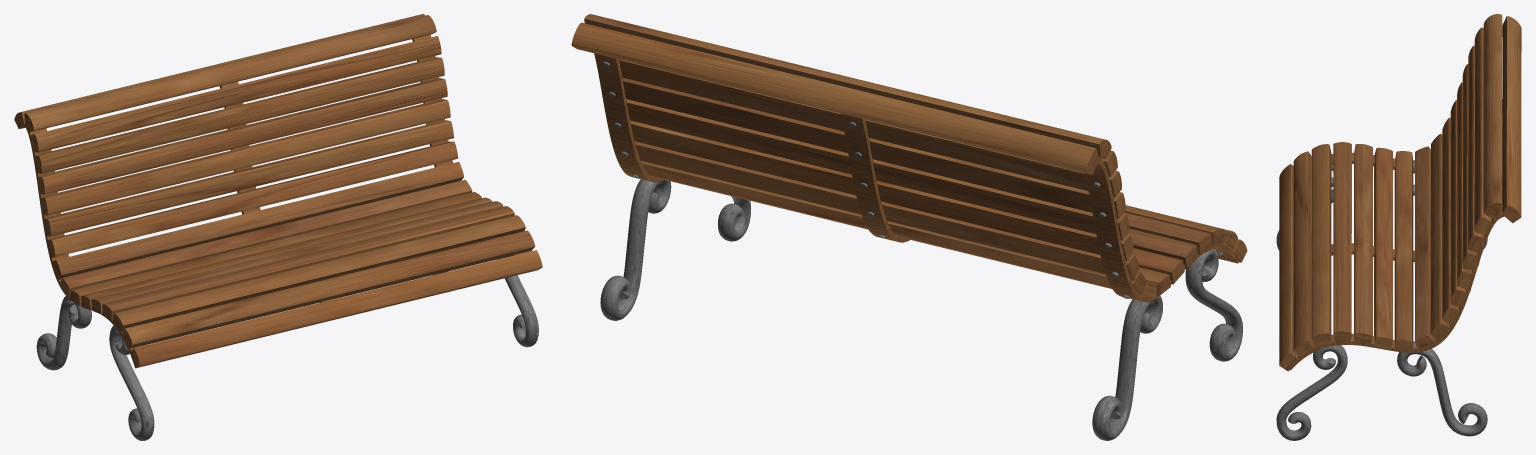
Rendered from outdoor_bench.glb.
3 renders of one model, left to right at view 1: azimuth 30°, elevation 25°; view 2: azimuth 150°, elevation 25°; view 3: azimuth 270°, elevation 25°, orthographic. The views are drawn at different scales.
Parts seen in each view (by area): view 1: CurlyCurve.002_0; view 2: CurlyCurve.002_0; view 3: CurlyCurve.002_0.
Boxes of the visible parts, x1=… form: CurlyCurve.002_0: x1=14, y1=14, x2=542, y2=440; CurlyCurve.002_0: x1=571, y1=14, x2=1247, y2=440; CurlyCurve.002_0: x1=1276, y1=14, x2=1521, y2=440.
Size of the model in its own units: 6.99 by 4.15 by 3.82.
Materials: 1 (1 with a texture image).
